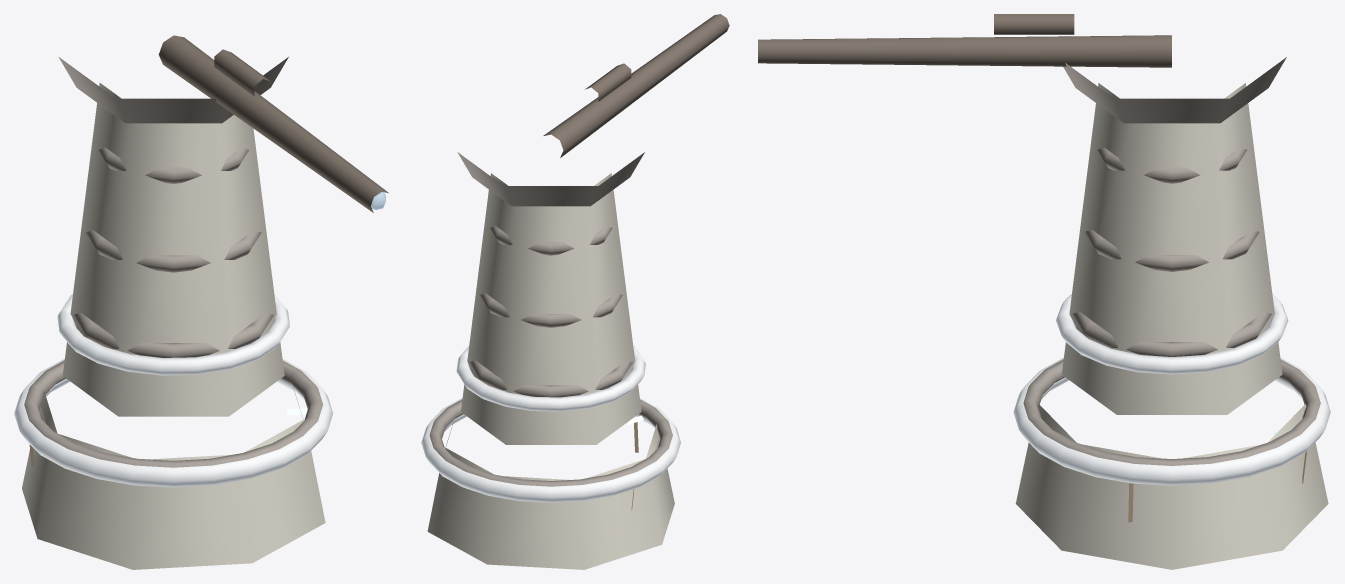
File: tower_sniper_2.glb
3 renders of one model, left to right at view 1: azimuth 30°, elevation 25°; view 2: azimuth 150°, elevation 25°; view 3: azimuth 270°, elevation 25°, orthographic. The views are drawn at different scales.
Parts seen in each view (by area): view 1: turret, base; view 2: turret, base; view 3: turret, base.
Boxes of the visible parts, left/top/right/bottom form: turret: left=58, top=35, right=388, bottom=416; base: left=14, top=294, right=333, bottom=569; turret: left=457, top=14, right=729, bottom=444; base: left=421, top=345, right=680, bottom=569; turret: left=758, top=14, right=1286, bottom=414; base: left=1013, top=294, right=1330, bottom=569.
Size of the model in its own units: 2.76 by 4.7 by 4.98.
